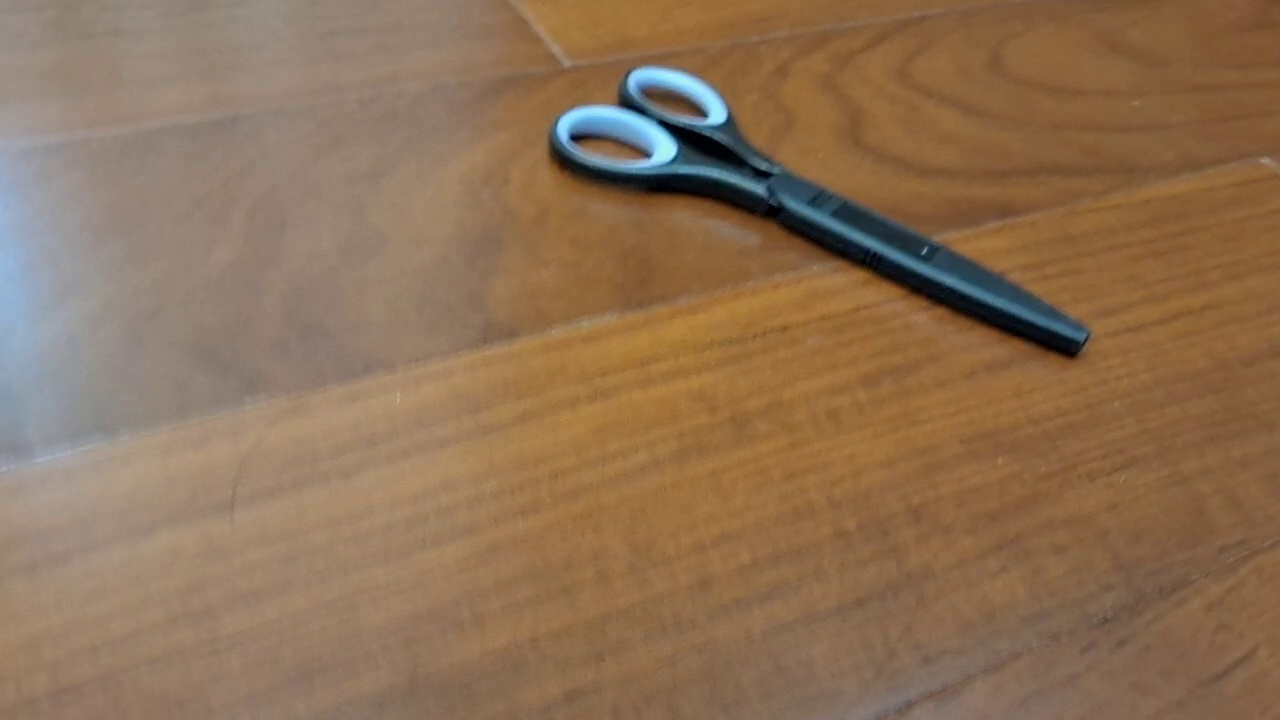scissors: (548, 64, 1093, 360)
